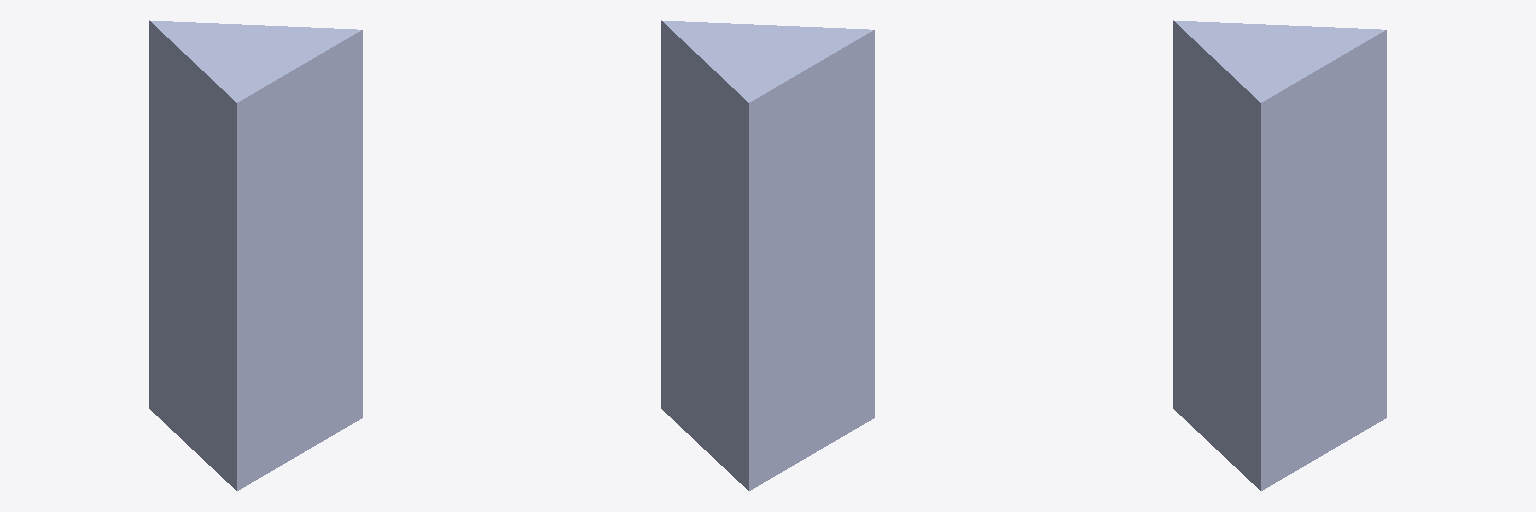
The robot description file, URDF, robot "tri_ver2":
<?xml version="1.0"?>
<robot
  name="tri_ver2">
  <link
    name="triangulo_link">
    <inertial>
      <origin
        xyz="0.022283 0.05 0.098594"
        rpy="0 0 0" />
      <mass
        value="0.10825" />
      <inertia
        ixx="15"
        ixy="-8.807E-21"
        ixz="-1.0857E-19"
        iyy="15"
        iyz="9.5218E-21"
        izz="15" />
    </inertial>
    <visual>
      <origin
        xyz="-0.1 0 0"
        rpy="0 0 1" />
      <geometry>
        <mesh
          filename="package://brazo/meshes/triangulo_link.STL" />
      </geometry>
      <material
        name="">
        <color
          rgba="0.79216 0.81961 0.93333 1" />
      </material>
    </visual>
    <collision>
      <origin
        xyz="-0.1 0 0"
        rpy="0 0 1" />
      <geometry>
        <mesh
          filename="package://brazo/meshes/triangulo_link.STL" />
      </geometry>
    </collision>
  </link>

  <gazebo reference="triangulo_link">
    <material>Gazebo/Blue</material>
    <mu1>100.0</mu1>
    <mu2>100.0</mu2>
    <selfCollide>false</selfCollide>
  </gazebo>
</robot>

--- Render facts (derived) ---
3 views of the same robot in one strip: view 1: azimuth 30°, elevation 25°; view 2: azimuth 150°, elevation 25°; view 3: azimuth 270°, elevation 25° (orthographic).
Robot: tri_ver2 — 1 links, 0 joints (none); root link triangulo_link; default pose: all joints at 0.
Visible links, largest first — view 1: triangulo_link; view 2: triangulo_link; view 3: triangulo_link.
Link boxes in pixels (bbox=[...]): triangulo_link: bbox=[149, 20, 362, 490]; triangulo_link: bbox=[661, 20, 874, 490]; triangulo_link: bbox=[1173, 20, 1386, 490].
Size in the robot's own frame: 0.0456 by 0.0497 by 0.1 metres.
1 mesh visuals loaded from 1 distinct referenced files (1 binary STL).